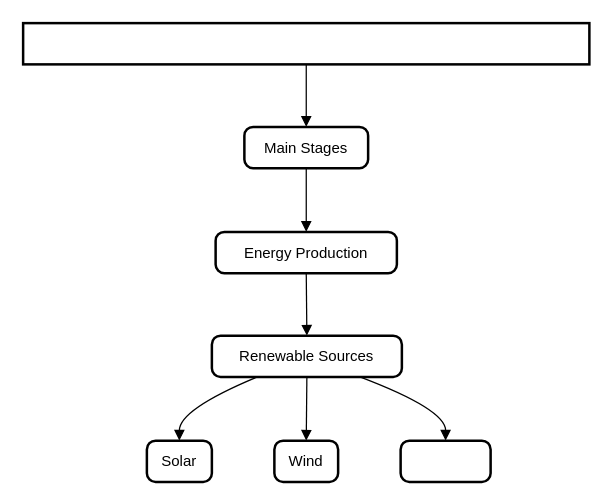
Image size: 611x504. Some labels were removed from this diagram. The box of each missing label's shape, as (x1, y1, x2, y2) in pixels:
Biomass: (399, 439, 491, 482)
Electricity Production Architecture and Supply Chain Failures: (21, 21, 590, 65)
